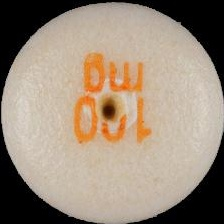69189-0510: (0, 0, 224, 224)
